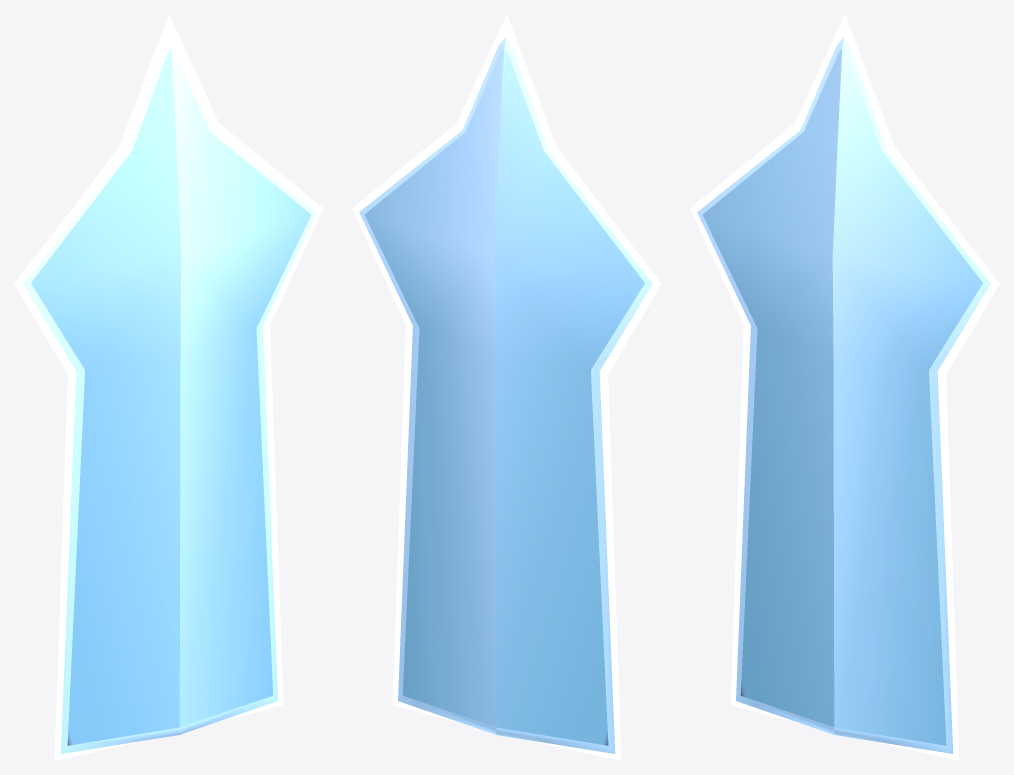
Rendered from steel_blade (16).glb.
3 renders of one model, left to right at view 1: azimuth 30°, elevation 25°; view 2: azimuth 150°, elevation 25°; view 3: azimuth 330°, elevation 25°, orthographic.
Visible parts, largest first — view 1: steel_blade_steel.047; view 2: steel_blade_steel.047; view 3: steel_blade_steel.047.
Boxes of the visible parts, x1,y1,x2,y2 form: steel_blade_steel.047: [14, 14, 323, 760]; steel_blade_steel.047: [352, 14, 661, 760]; steel_blade_steel.047: [690, 14, 999, 760].
Size of the model in its own units: 5.28 by 11.76 by 0.7262.
1 material, 1 textured.
